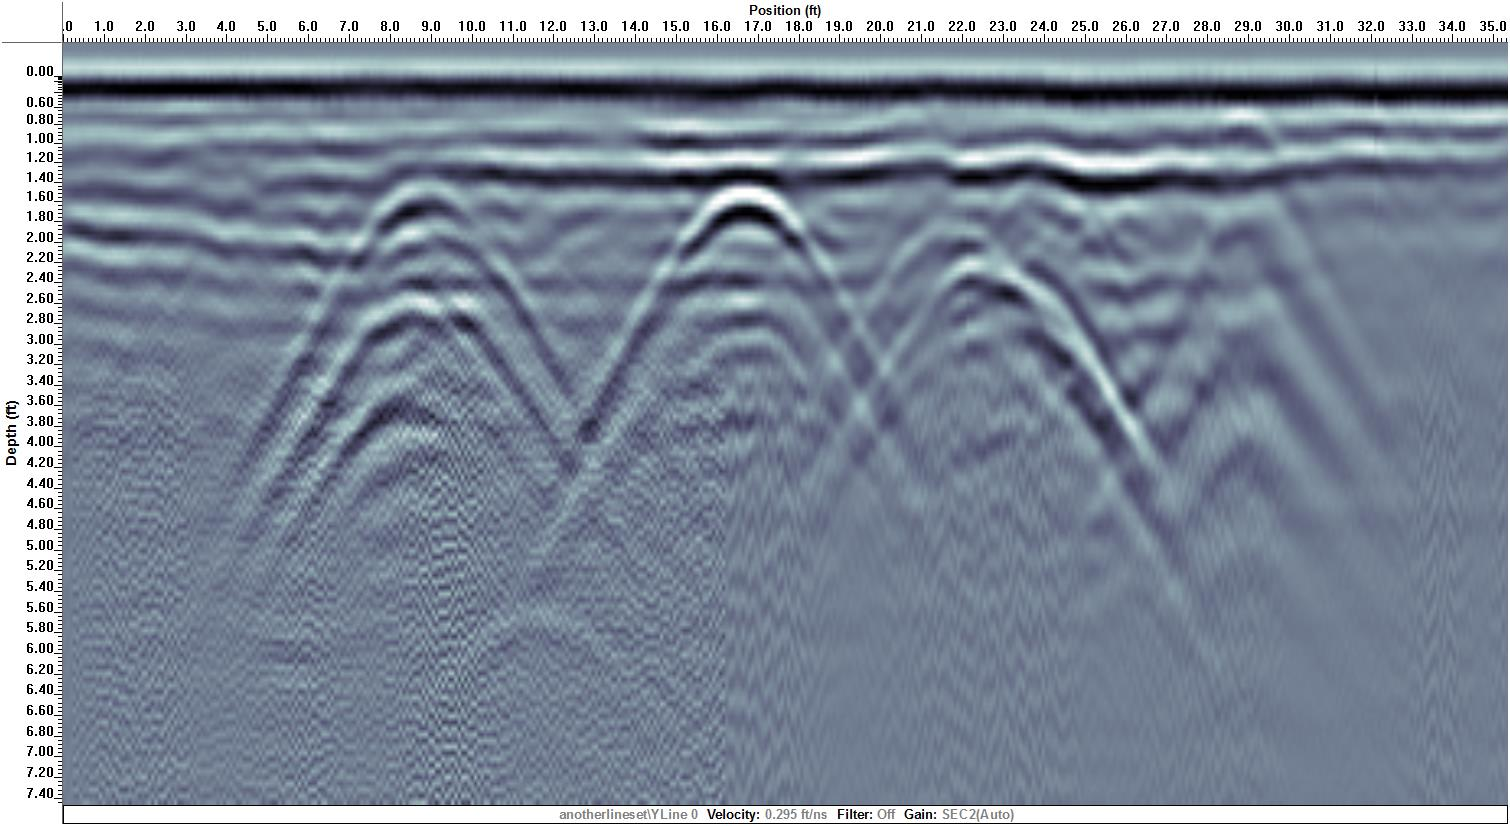hyperbola: (240, 182, 565, 439), (597, 178, 856, 421), (1158, 196, 1354, 517), (845, 241, 1141, 442)
